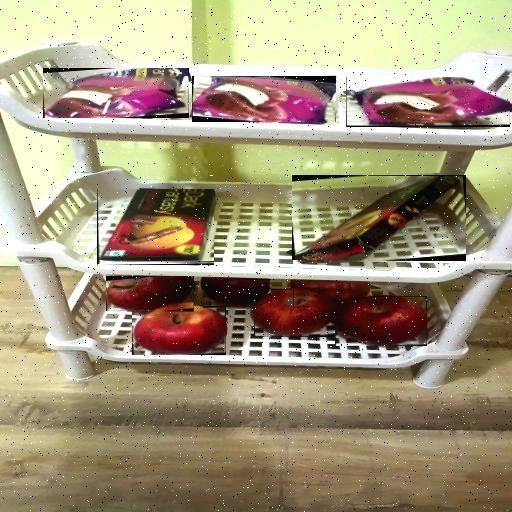Apple: (132, 305, 226, 355), (335, 296, 427, 346), (254, 289, 338, 337), (106, 276, 194, 311), (293, 282, 370, 310), (203, 279, 271, 307)
Choco Fills: (292, 176, 466, 262), (97, 190, 214, 266)
Choco Pie: (346, 77, 510, 127), (43, 68, 189, 118), (192, 76, 336, 122)
